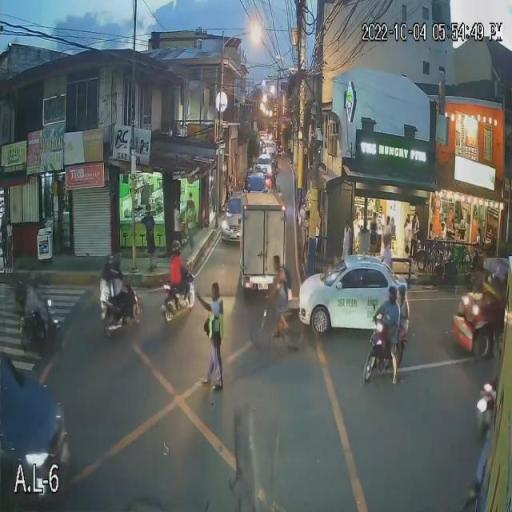helmet: (106, 252, 120, 265), (384, 282, 396, 294), (172, 240, 182, 251), (397, 280, 407, 290)
motorcycle: (362, 311, 409, 385), (98, 277, 144, 339), (16, 296, 58, 359), (160, 273, 198, 322)
rider: (374, 284, 401, 382), (20, 272, 52, 330), (168, 240, 194, 306), (101, 252, 129, 313), (392, 281, 410, 338)
